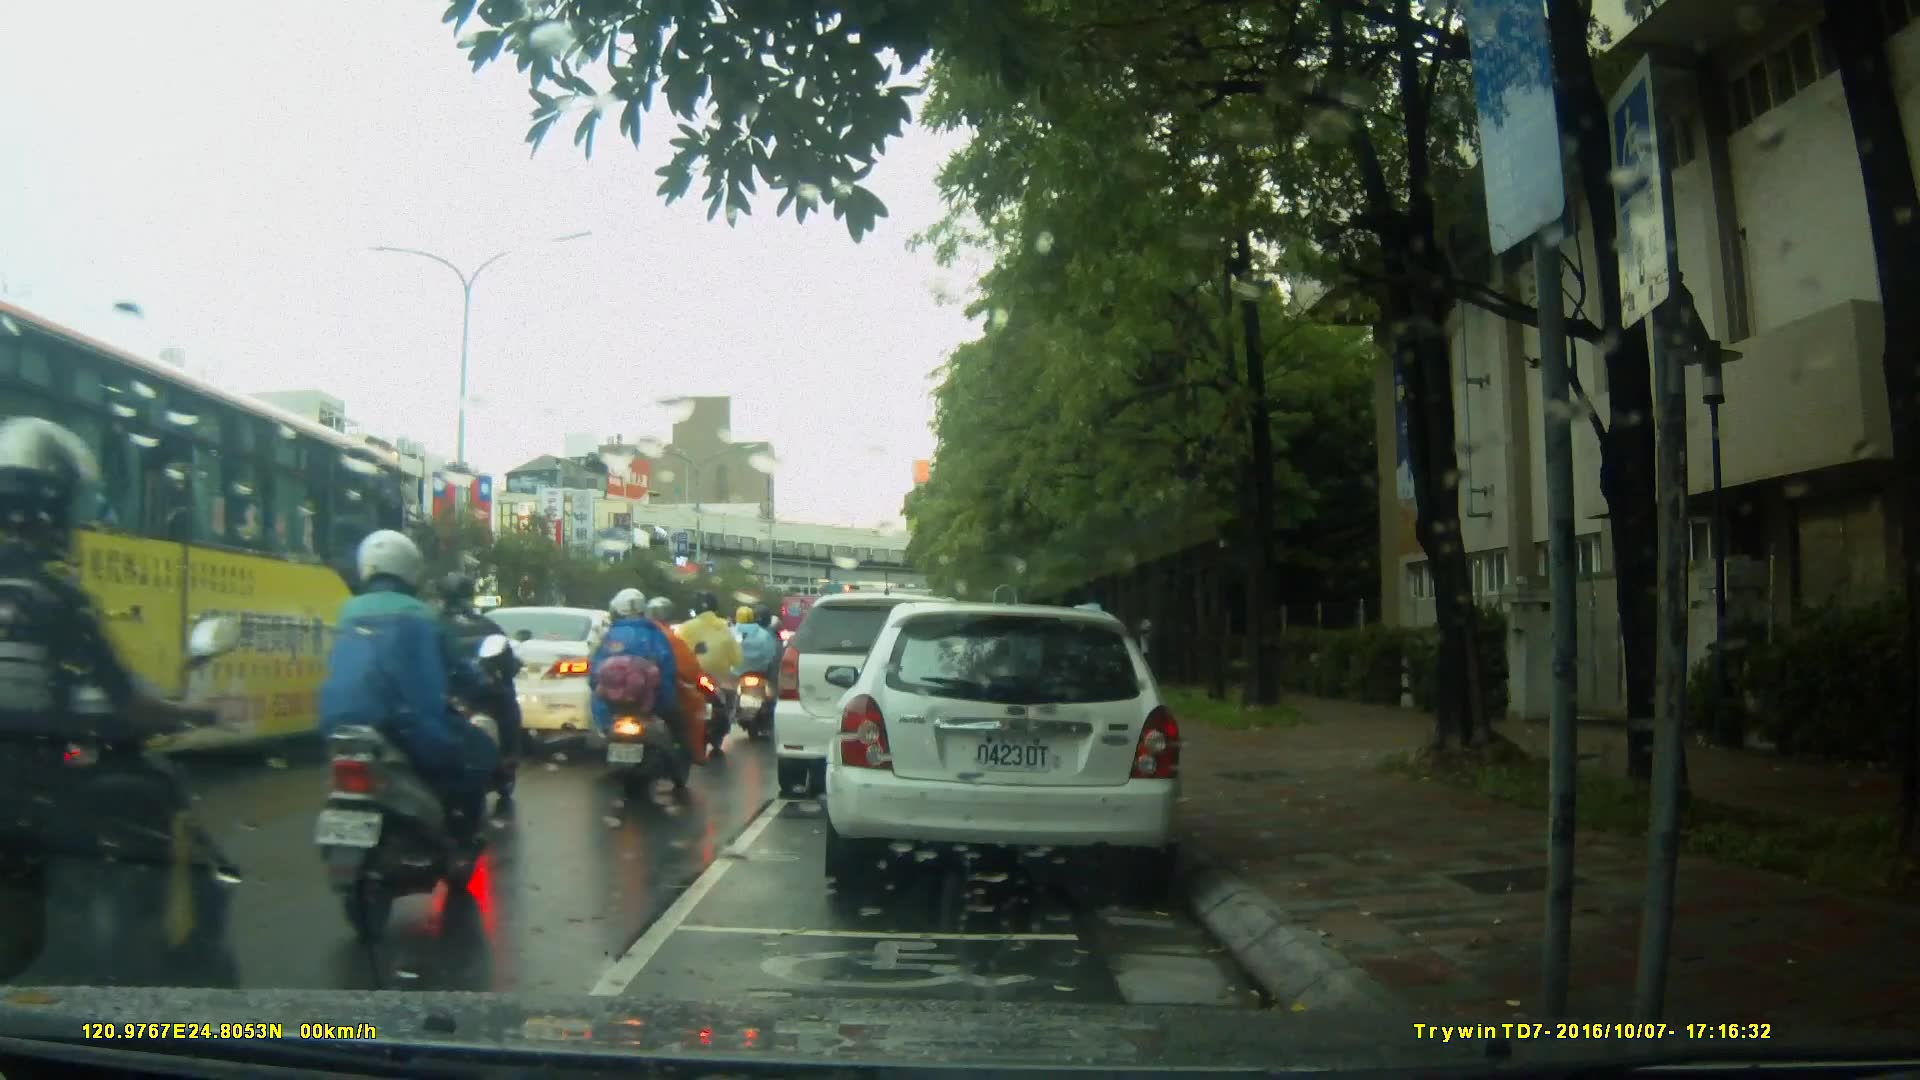rider: (3, 414, 240, 1048), (307, 514, 493, 933), (396, 569, 528, 817), (588, 586, 706, 810), (677, 590, 744, 762), (722, 605, 779, 742)
vehicle: (1, 296, 417, 796), (835, 594, 1194, 898), (776, 590, 1026, 784), (453, 604, 660, 750)
